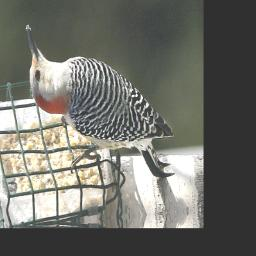Woodpecker: (26, 11, 176, 190)
